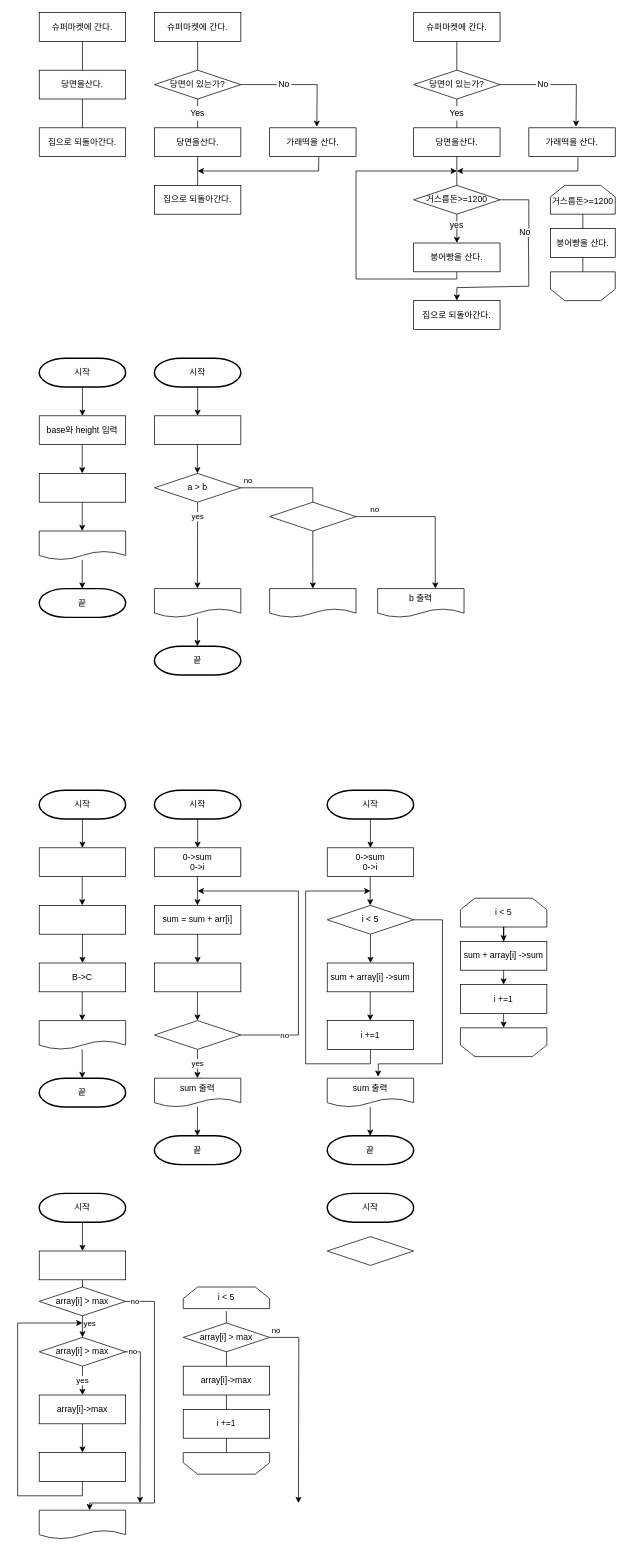
Image size: 631x1552. Some labels were removed from this diagram. Here are the shapes that lost their labels. From the top down, the centre of each, then its label:
point (197, 430): a와 b를 입력
point (82, 487): base * height/2.0 ->area
point (312, 516): a=b
point (82, 545): area 출력
point (197, 602): a 출력
point (312, 602): a와 b는 같다.
point (82, 862): A->11 B->55 C->11
point (82, 919): A->B
point (197, 977): i = i+1
point (82, 1034): A와 B출력
point (197, 1034): i = n
point (82, 1265): array[0]->max 0->i
point (370, 1250): array[0] = 5
point (82, 1466): i + 1 -> i
point (82, 1524): max 출력
